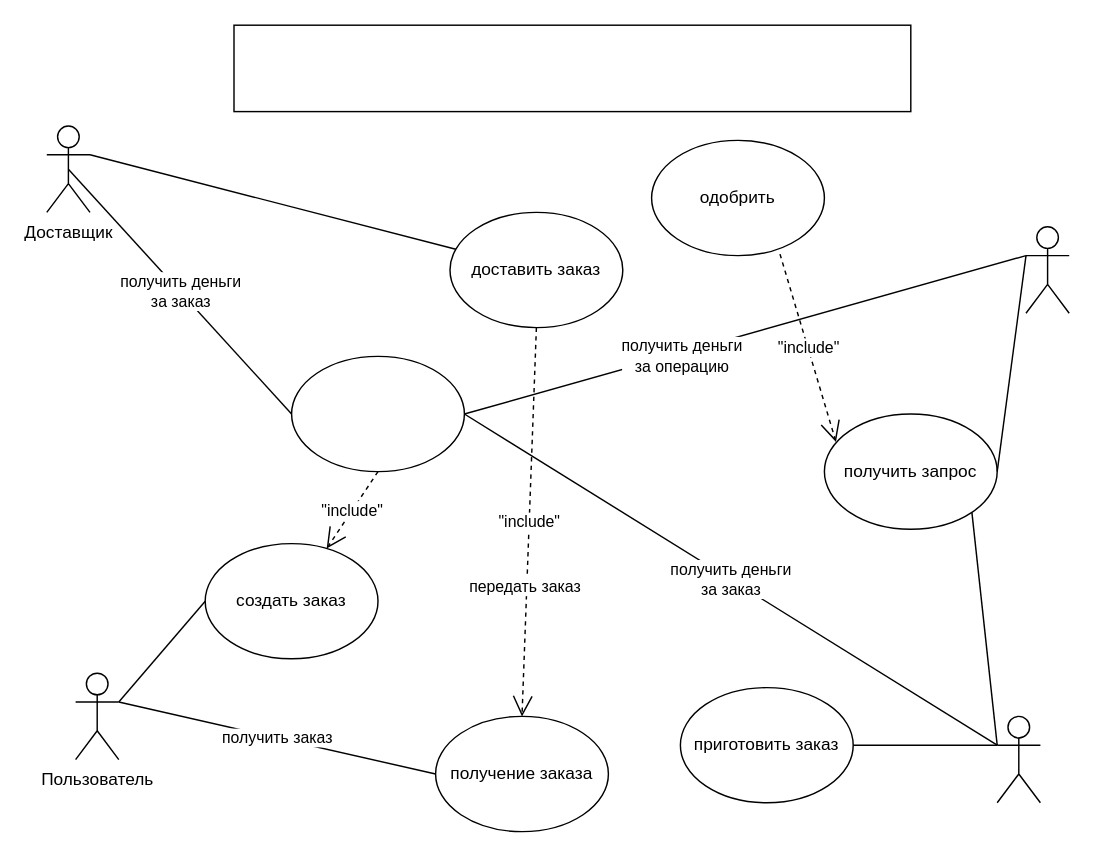
This 1094x858 diagram has some shape labels left out. Here are the shapes that lost their labels. From the top down, the centre of each, then its label:
(572,68): Диаграмма вариантов использования(основные сценарии)(не более 5 - 7)
(1047,269): Банк
(377,413): оплатить заказ
(1018,759): Ресторан
